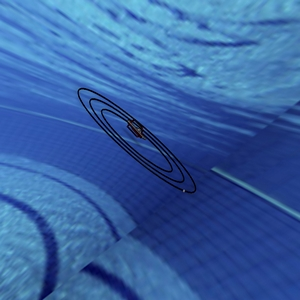circle: (70, 74, 205, 205)
submarine: (118, 113, 149, 142)
